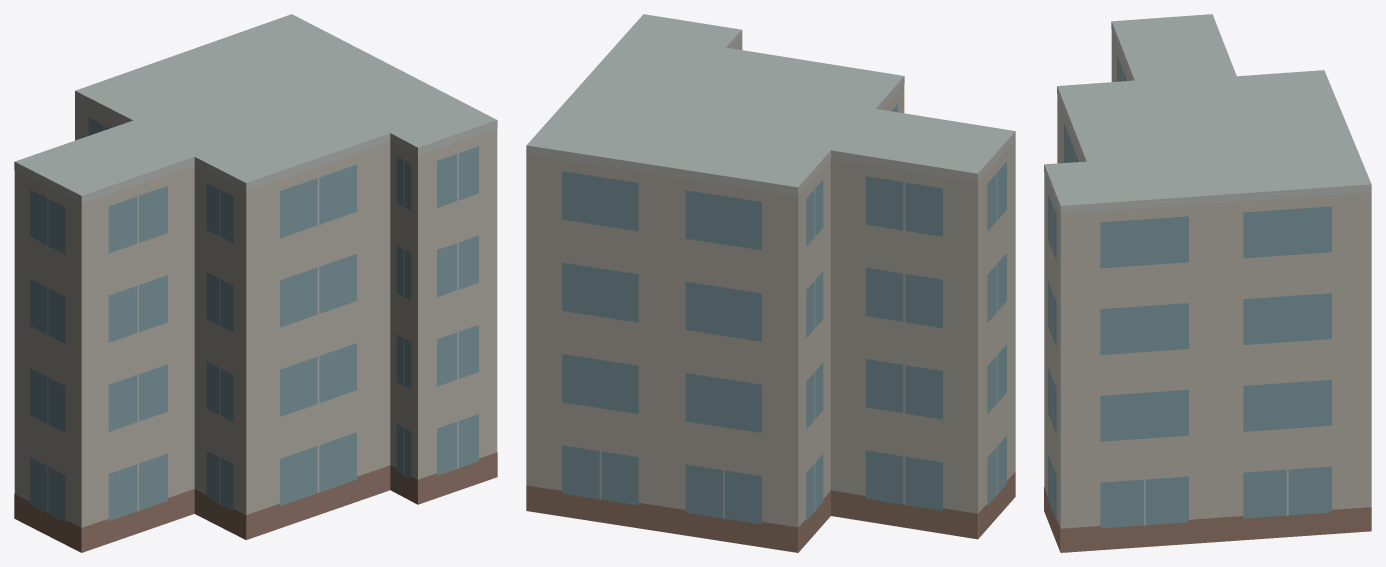
Rendered from survey-upis-32626688.glb.
3 views of the same model, side by side, from view 1: azimuth 30°, elevation 25°; view 2: azimuth 150°, elevation 25°; view 3: azimuth 270°, elevation 25° (orthographic). The views are drawn at different scales.
Visible parts, largest first — view 1: survey-upis-32626688.tmp; view 2: survey-upis-32626688.tmp; view 3: survey-upis-32626688.tmp.
Part boxes in pixels (left/top/right/bottom): survey-upis-32626688.tmp: left=14, top=14, right=497, bottom=552; survey-upis-32626688.tmp: left=526, top=14, right=1015, bottom=552; survey-upis-32626688.tmp: left=1044, top=14, right=1371, bottom=552.
Bounding box in the file's own units: 12.47 × 10.5 × 8.99.
